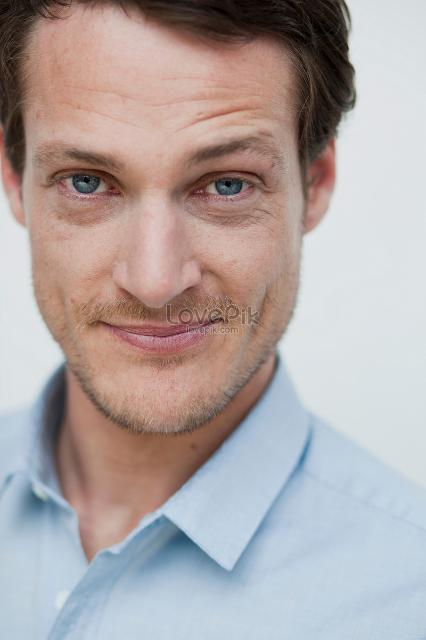forehead: (194, 101, 254, 127)
